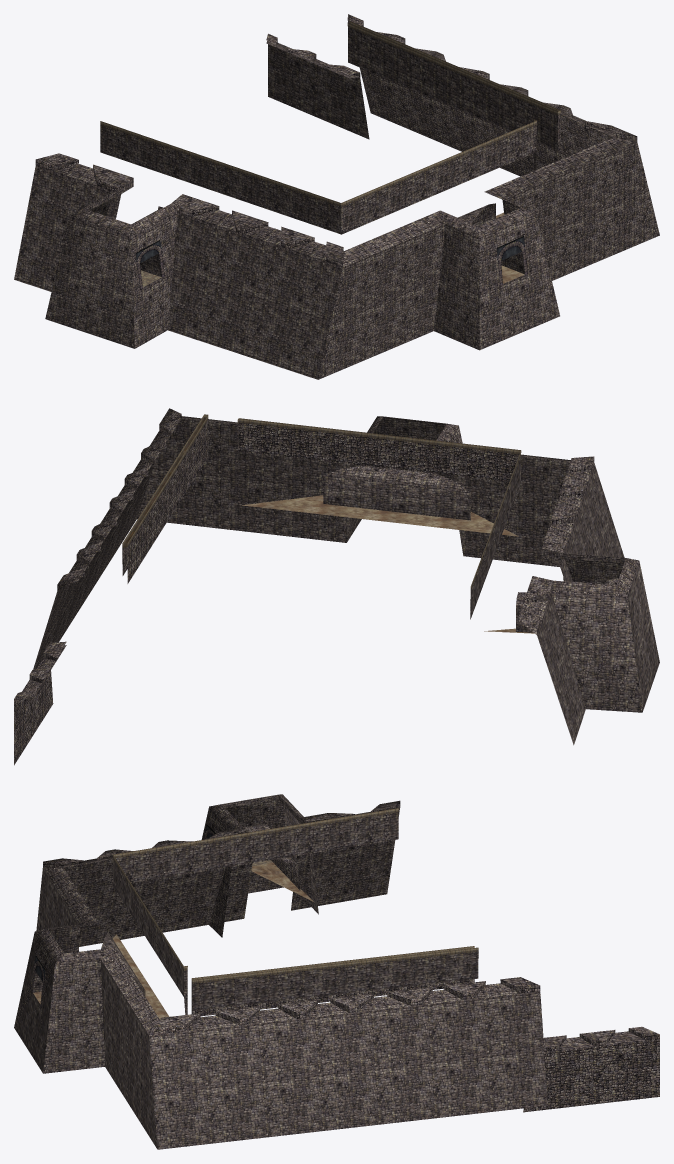
File: pir_m_bld_frt_fortCharles_exterior.fbx
3 renders of one model, top to bottom at view 1: azimuth 30°, elevation 25°; view 2: azimuth 150°, elevation 25°; view 3: azimuth 270°, elevation 25°, orthographic. The views are drawn at different scales.
Visible parts, largest first — view 1: wall_exterior, wall_interior_01, wall_entrance_exterior, parapet, wall_balcony_exterior, interior_wall_trim, tunnel_011; view 2: wall_exterior, wall_interior_01, wall_entrance_exterior, parapet, tunnel_011, floor_ground, interior_wall_trim, wall_balcony_exterior, parapet_balcony_02; view 3: wall_exterior, wall_interior_01, parapet, wall_balcony_exterior, wall_entrance_exterior, interior_wall_trim, floor_ground, parapet_balcony_02, parapet_balcony_top1, tunnel_03, tunnel_011.
Part boxes in pixels (bbox=[...]): wall_exterior: bbox=[14, 67, 659, 379]; wall_interior_01: bbox=[100, 27, 560, 234]; wall_entrance_exterior: bbox=[45, 188, 177, 348]; parapet: bbox=[35, 14, 637, 266]; wall_balcony_exterior: bbox=[268, 44, 369, 139]; interior_wall_trim: bbox=[100, 21, 560, 206]; tunnel_011: bbox=[458, 203, 524, 273]; wall_exterior: bbox=[33, 417, 624, 745]; wall_interior_01: bbox=[122, 419, 520, 619]; wall_entrance_exterior: bbox=[551, 553, 659, 712]; parapet: bbox=[57, 408, 594, 634]; tunnel_011: bbox=[323, 466, 470, 520]; floor_ground: bbox=[242, 495, 534, 633]; interior_wall_trim: bbox=[122, 414, 521, 589]; wall_balcony_exterior: bbox=[14, 670, 53, 765]; parapet_balcony_02: bbox=[14, 641, 66, 703]; wall_exterior: bbox=[14, 807, 547, 1149]; wall_interior_01: bbox=[113, 812, 478, 1016]; parapet: bbox=[35, 800, 540, 1035]; wall_balcony_exterior: bbox=[523, 1039, 659, 1112]; wall_entrance_exterior: bbox=[201, 794, 318, 937]; interior_wall_trim: bbox=[113, 808, 478, 983]; floor_ground: bbox=[33, 862, 314, 1018]; parapet_balcony_02: bbox=[543, 1026, 659, 1052]; parapet_balcony_top1: bbox=[557, 1031, 646, 1050]; tunnel_03: bbox=[206, 823, 300, 890]; tunnel_011: bbox=[33, 932, 145, 996].
Size of the model in its own units: 44208 by 11274 by 45772.
5 materials, 5 textured.
